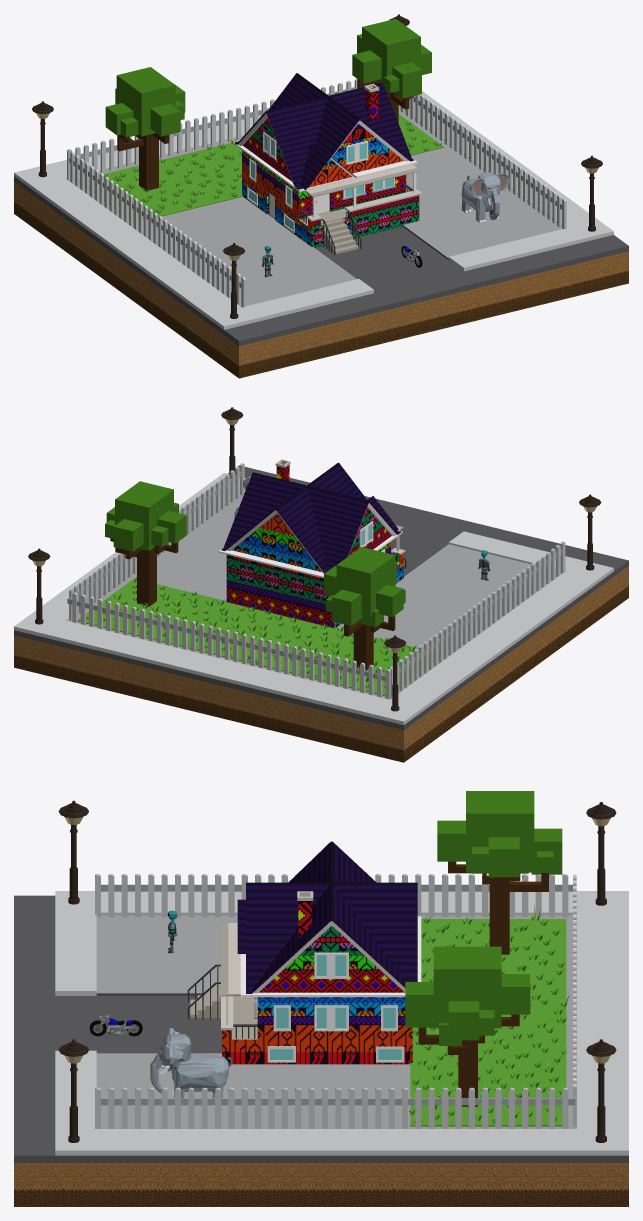
3 renders of one model, top to bottom at view 1: azimuth 30°, elevation 25°; view 2: azimuth 150°, elevation 25°; view 3: azimuth 270°, elevation 25°, orthographic. The views are drawn at different scales.
Parts seen in each view (by area): view 1: Cube.004, Cube.966, ANIMAL_ELEFANTE; view 2: Cube.004, Cube.966; view 3: Cube.004, Cube.966, ANIMAL_ELEFANTE, VEHICLES_CHOPPER.
Part boxes in pixels (left/top/right/bottom): Cube.004: left=14, top=14, right=628, bottom=378; Cube.966: left=233, top=73, right=422, bottom=255; ANIMAL_ELEFANTE: left=461, top=172, right=509, bottom=222; Cube.004: left=14, top=407, right=628, bottom=762; Cube.966: left=218, top=459, right=406, bottom=627; Cube.004: left=14, top=791, right=628, bottom=1206; Cube.966: left=187, top=841, right=421, bottom=1064; ANIMAL_ELEFANTE: left=150, top=1028, right=232, bottom=1098; VEHICLES_CHOPPER: left=89, top=1014, right=142, bottom=1036.
Size of the model in its own units: 4000 by 1600 by 4000.
Materials: 38 (7 with a texture image).
